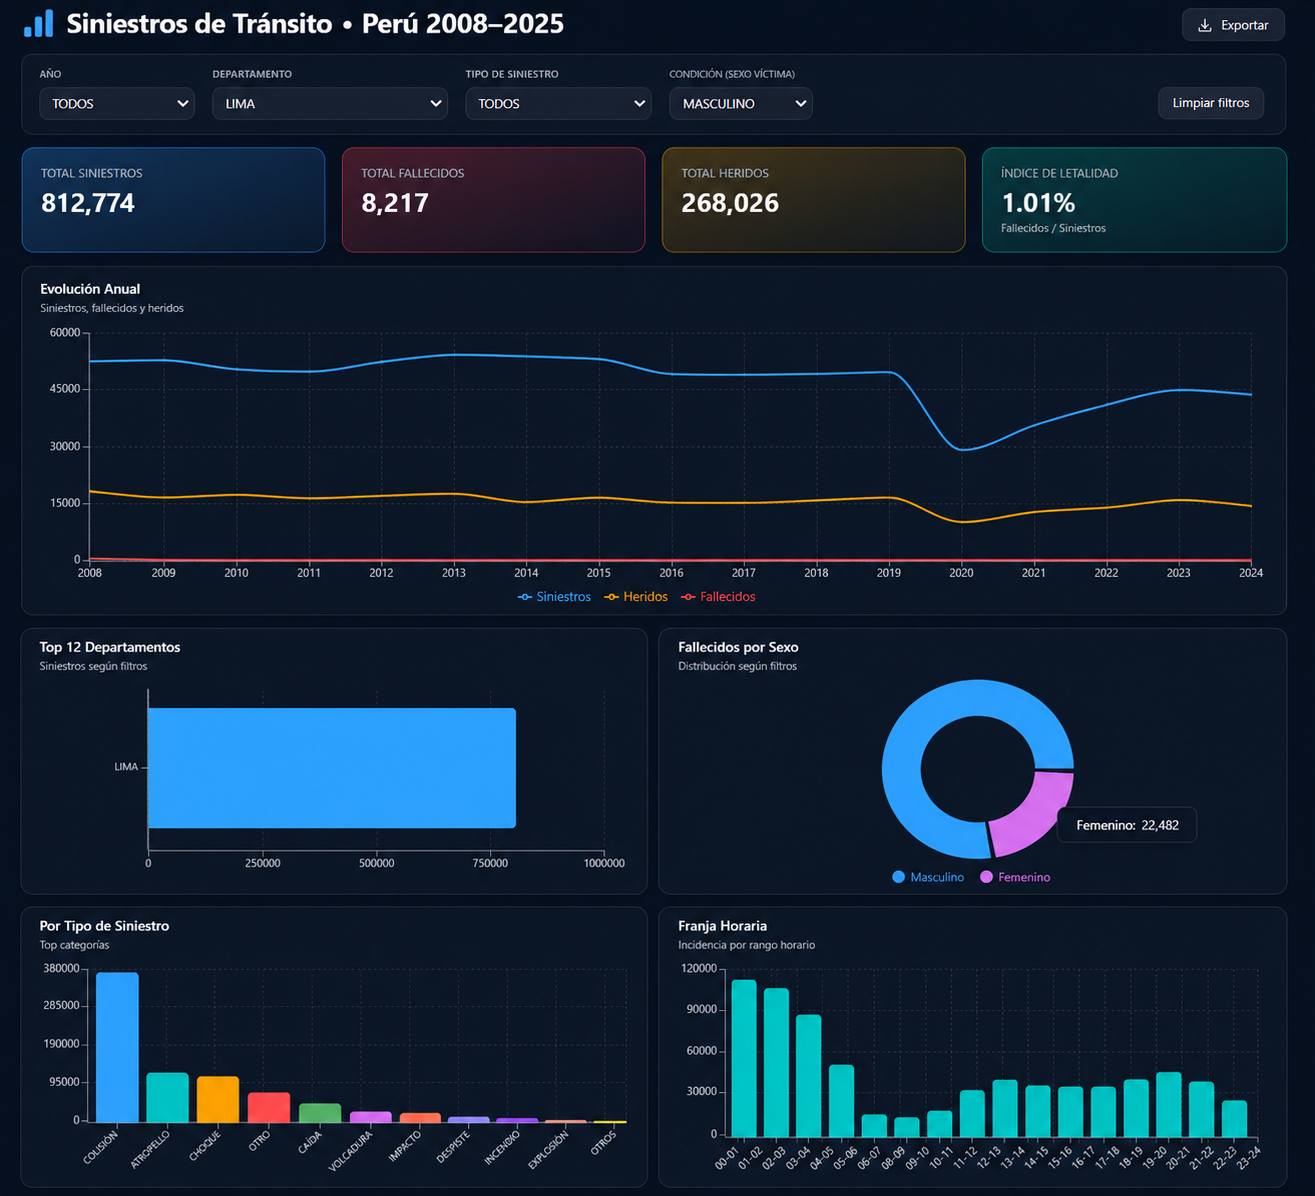

This screenshot's page, from the dashboard's own definition file:
{"tool":"powerbi","page":{"name":"Página 1","canvas":[1280,720],"ordinal":0},"visuals":[{"type":"shape","box":[144,96,1136,625],"z":0},{"type":"shape","box":[939.9,620.7,22.4,14.7],"z":0,"group":"g1"},{"type":"shape","box":[0,0,1280,95],"z":1000},{"type":"shape","box":[960.9,620.7,22.4,14.7],"z":1000,"group":"g1"},{"type":"textbox","box":[208,32,1072,160],"z":2000},{"type":"shape","box":[982,620.7,22.4,14.7],"z":2000,"group":"g1"},{"type":"shape","box":[0,96,144,624],"z":3000},{"type":"shape","box":[1003.1,620.7,22.4,14.7],"z":3000,"group":"g1"},{"type":"textbox","box":[40,128,128,64],"z":4000},{"type":"shape","box":[1024.2,620.7,22.4,14.7],"z":4000,"group":"g1"},{"type":"textbox","box":[40,192,128,64],"z":5000},{"type":"shape","box":[1045.3,620.7,22.4,14.7],"z":5000,"group":"g1"},{"type":"textbox","box":[40,256,128,64],"z":6000},{"type":"textbox","box":[898.2,628.7,232,56],"z":6000,"group":"g1"},{"type":"textbox","box":[40,320,128,64],"z":7000},{"type":"textbox","box":[40,384,128,64],"z":8000},{"type":"textbox","box":[40,448,128,64],"z":9000},{"type":"textbox","box":[40,512,128,64],"z":10000},{"type":"shape","box":[0,120,16,48],"z":11000},{"type":"slicer","fields":{"Values":["Fact_Siniestros_Region.Año"]},"box":[160,104,240,64],"z":12000},{"type":"slicer","fields":{"Values":["Fact_Siniestros_Region.DEPARTAMENTO"]},"box":[472,104,208,64],"z":13000},{"type":"slicer","fields":{"Values":["Fact_Siniestros_Tipo.Tipo_Siniestro"]},"box":[752,104,224,64],"z":14000},{"type":"slicer","fields":{"Values":["Fact_Victimas.Condicion"]},"box":[1056,104,208,64],"z":15000},{"type":"cardVisual","fields":{"Data":["Fact_Siniestros_Region.Total Fallecidos"]},"box":[432,176,256,96],"z":16000},{"type":"cardVisual","fields":{"Data":["Fact_Siniestros_Region.Total Siniestros"]},"box":[160,176,264,96],"z":17000},{"type":"cardVisual","fields":{"Data":["Fact_Siniestros_Region.Total Heridos"]},"box":[704,176,272,96],"z":18000},{"type":"cardVisual","fields":{"Data":["Fact_Siniestros_Region.Regiones Reportadas"]},"box":[1008,176,272,96],"z":19000},{"type":"lineChart","title":"       Evolución anual de siniestros","fields":{"Category":["Fact_Siniestros_Region.Año"],"Y":["Sum(Fact_Siniestros_Region.Total_Siniestros)"]},"box":[160,280,432,176],"z":20000},{"type":"azureMap","title":"Distribución geográfica de siniestros","fields":{"Category":["Fact_Siniestros_Region.Ubicacion_Mapa"],"Size":["Fact_Siniestros_Region.Total Siniestros"]},"box":[608,280,288,208],"z":21000},{"type":"clusteredBarChart","title":"Top departamentos con más siniestros","fields":{"Category":["Fact_Siniestros_Region.Departamento"],"Y":["Fact_Siniestros_Region.Total Siniestros"]},"box":[912,280,352,208],"z":22000},{"type":"donutChart","title":"Tipo de siniestro","fields":{"Category":["Fact_Siniestros_Tipo.Tipo_Siniestro"],"Y":["Sum(Fact_Siniestros_Tipo.Cantidad)"]},"box":[160,464,304,224],"z":23000},{"type":"pivotTable","title":"Comparativo mensual de siniestros 2023-2025","fields":{"Rows":["Fact_Siniestros_Mensual.Año"],"Values":["Sum(Fact_Siniestros_Mensual.Siniestros)"],"Columns":["Dim_Meses.Mes_Corto"]},"box":[786.2,492.7,480,176],"z":24000},{"type":"columnChart","title":"Fallecidos y heridos por año","fields":{"Category":["Fact_Victimas.Año"],"Series":["Fact_Victimas.Condicion"],"Y":["Sum(Fact_Victimas.Cantidad)"]},"box":[472,496,304,192],"z":25000},{"type":"group","id":"g1","title":"Grupo 1","box":[898.2,620.7,232,64],"z":26000},{"type":"shape","box":[176,16,16,64],"z":27000},{"type":"image","box":[192,280,32,32],"z":28000},{"type":"image","box":[320,112,96,48],"z":29000},{"type":"image","box":[832,280,48,48],"z":30000},{"type":"image","box":[624,112,64,48],"z":31000},{"type":"image","box":[800,8,480,88],"z":32000},{"type":"image","box":[912,104,53,61],"z":33000},{"type":"image","box":[1208,112,48,56],"z":34000},{"type":"image","box":[728,480,48,64],"z":35000},{"type":"image","box":[912,272,32,48],"z":36000},{"type":"image","box":[8,152,32,112],"z":37000},{"type":"image","box":[0,416,40,96],"z":38000},{"type":"image","box":[0,496,40,64],"z":39000},{"type":"image","box":[0,248,45,45],"z":40000},{"type":"image","box":[8,128,32,32],"z":41000},{"type":"image","box":[0,352,42,85],"z":42000},{"type":"image","box":[8,304,40,56],"z":43000},{"type":"image","box":[272,456,72,40],"z":44000},{"type":"textbox","box":[208,8,1071,144],"z":45000},{"type":"image","box":[0,16,192,64],"z":46000}]}

Visuals, with their boxes on the page's 1280x720 design canvas (x1, y1, x2, y2). These are canvas units, not pixel positions in the 1315x1196 screenshot, which may show the page scaled, cropped or inside an application window:
shape: bbox=(144, 96, 1280, 721)
shape: bbox=(940, 621, 962, 635)
shape: bbox=(0, 0, 1280, 95)
shape: bbox=(961, 621, 983, 635)
textbox: bbox=(208, 32, 1280, 192)
shape: bbox=(982, 621, 1004, 635)
shape: bbox=(0, 96, 144, 720)
shape: bbox=(1003, 621, 1026, 635)
textbox: bbox=(40, 128, 168, 192)
shape: bbox=(1024, 621, 1047, 635)
textbox: bbox=(40, 192, 168, 256)
shape: bbox=(1045, 621, 1068, 635)
textbox: bbox=(40, 256, 168, 320)
textbox: bbox=(898, 629, 1130, 685)
textbox: bbox=(40, 320, 168, 384)
textbox: bbox=(40, 384, 168, 448)
textbox: bbox=(40, 448, 168, 512)
textbox: bbox=(40, 512, 168, 576)
shape: bbox=(0, 120, 16, 168)
slicer - Fact_Siniestros_Region.Año: bbox=(160, 104, 400, 168)
slicer - Fact_Siniestros_Region.DEPARTAMENTO: bbox=(472, 104, 680, 168)
slicer - Fact_Siniestros_Tipo.Tipo_Siniestro: bbox=(752, 104, 976, 168)
slicer - Fact_Victimas.Condicion: bbox=(1056, 104, 1264, 168)
cardVisual - Fact_Siniestros_Region.Total Fallecidos: bbox=(432, 176, 688, 272)
cardVisual - Fact_Siniestros_Region.Total Siniestros: bbox=(160, 176, 424, 272)
cardVisual - Fact_Siniestros_Region.Total Heridos: bbox=(704, 176, 976, 272)
cardVisual - Fact_Siniestros_Region.Regiones Reportadas: bbox=(1008, 176, 1280, 272)
"       Evolución anual de siniestros" lineChart: bbox=(160, 280, 592, 456)
"Distribución geográfica de siniestros" azureMap: bbox=(608, 280, 896, 488)
"Top departamentos con más siniestros" clusteredBarChart: bbox=(912, 280, 1264, 488)
"Tipo de siniestro" donutChart: bbox=(160, 464, 464, 688)
"Comparativo mensual de siniestros 2023-2025" pivotTable: bbox=(786, 493, 1266, 669)
"Fallecidos y heridos por año" columnChart: bbox=(472, 496, 776, 688)
"Grupo 1" group: bbox=(898, 621, 1130, 685)
shape: bbox=(176, 16, 192, 80)
image: bbox=(192, 280, 224, 312)
image: bbox=(320, 112, 416, 160)
image: bbox=(832, 280, 880, 328)
image: bbox=(624, 112, 688, 160)
image: bbox=(800, 8, 1280, 96)
image: bbox=(912, 104, 965, 165)
image: bbox=(1208, 112, 1256, 168)
image: bbox=(728, 480, 776, 544)
image: bbox=(912, 272, 944, 320)
image: bbox=(8, 152, 40, 264)
image: bbox=(0, 416, 40, 512)
image: bbox=(0, 496, 40, 560)
image: bbox=(0, 248, 45, 293)
image: bbox=(8, 128, 40, 160)
image: bbox=(0, 352, 42, 437)
image: bbox=(8, 304, 48, 360)
image: bbox=(272, 456, 344, 496)
textbox: bbox=(208, 8, 1279, 152)
image: bbox=(0, 16, 192, 80)
